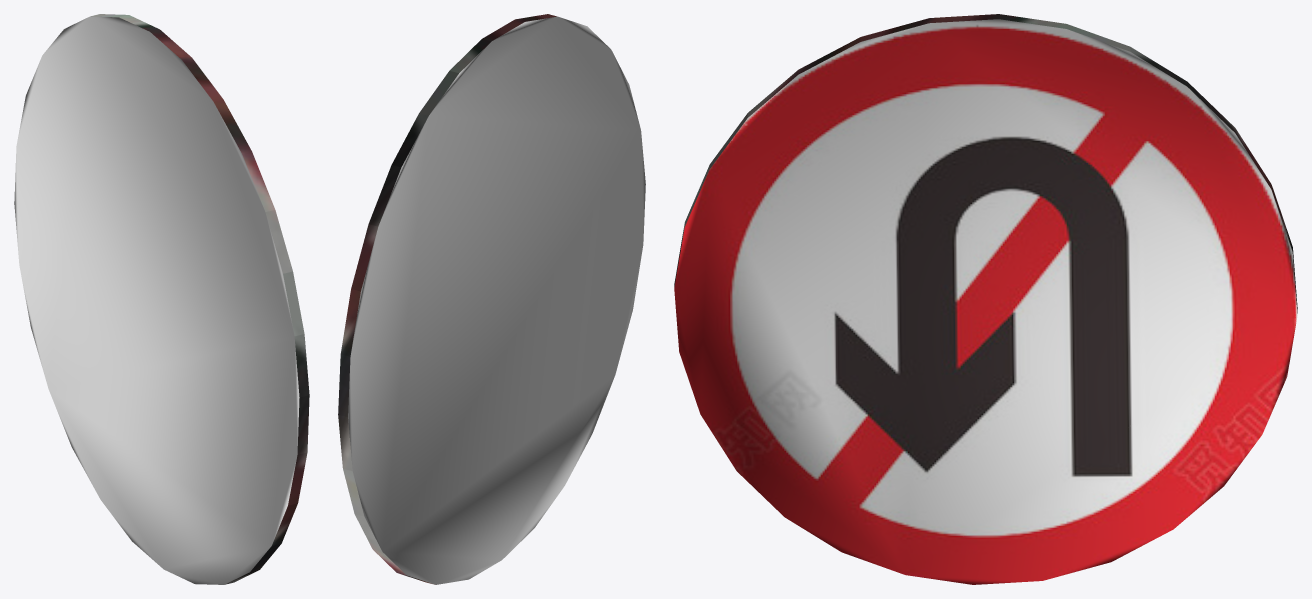
3 views of the same model, side by side, from view 1: azimuth 30°, elevation 25°; view 2: azimuth 150°, elevation 25°; view 3: azimuth 270°, elevation 25° (orthographic). The views are drawn at different scales.
Visible parts, largest first — view 1: model10; view 2: model10; view 3: model10.
Boxes of the visible parts, x1,y1,x2,y2 form: model10: (14, 14, 309, 584); model10: (338, 14, 645, 584); model10: (674, 14, 1297, 584).
Bounding box in the file's own units: 0.0396 × 1.19 × 1.19.
3 materials, 3 textured.
